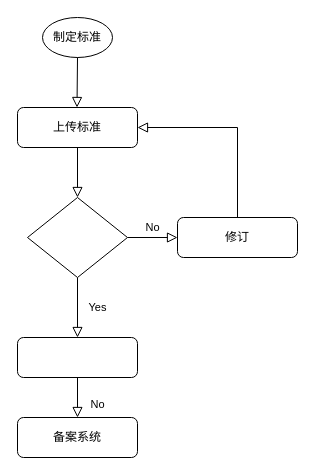
Some shapes in this 315 by 475 pixel diagram are drawn without their labels. The shapes that lost their labels are listed below. From the top down, each one's centre as x and y in pixels, then its label:
the point at 77,237: 审核通过
the point at 77,357: 区块链存证
